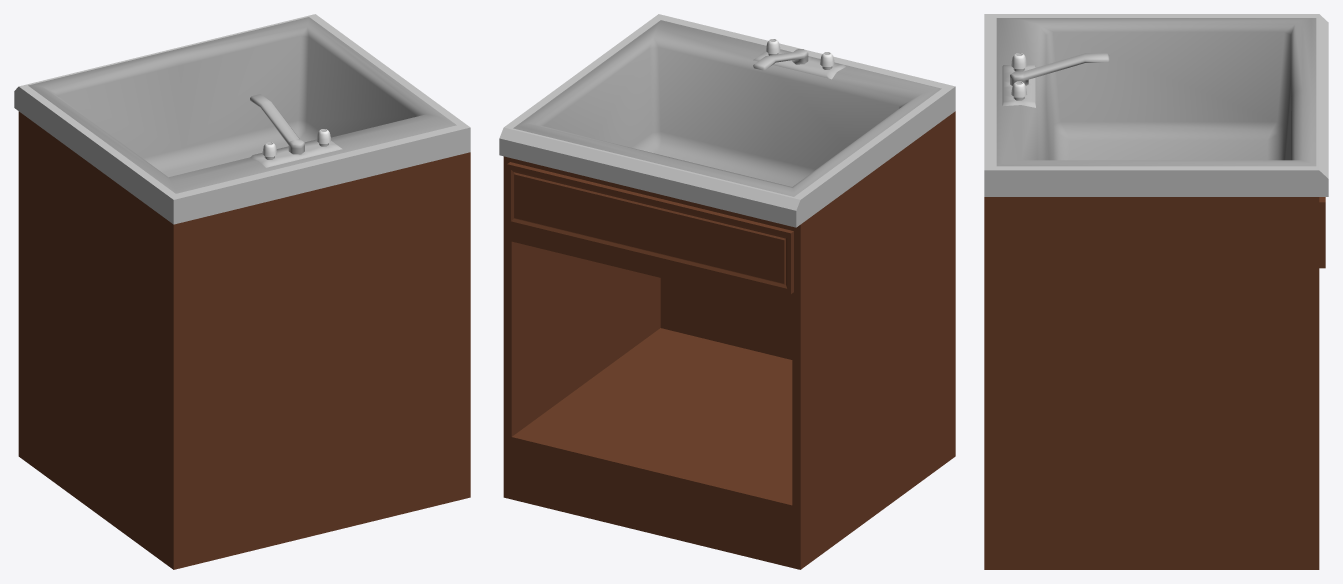
The model's file is CounterSink.fbx.
The picture shows the model from 3 angles, left to right: view 1: azimuth 30°, elevation 25°; view 2: azimuth 150°, elevation 25°; view 3: azimuth 270°, elevation 25°; orthographic projection. The views are drawn at different scales.
Visible parts, largest first — view 1: SinkCounter, Sink, Faucet; view 2: SinkCounter, Sink, Faucet; view 3: SinkCounter, Sink, Faucet.
Boxes of the visible parts, <box> form: SinkCounter: <box>14,14,470,569</box>; Sink: <box>28,17,456,193</box>; Faucet: <box>250,94,342,167</box>; SinkCounter: <box>499,14,955,569</box>; Sink: <box>513,20,941,196</box>; Faucet: <box>753,39,845,79</box>; SinkCounter: <box>984,14,1328,569</box>; Sink: <box>996,18,1316,166</box>; Faucet: <box>1002,53,1109,107</box>.
Size of the model in its own units: 3.81 by 4.9 by 3.54.
